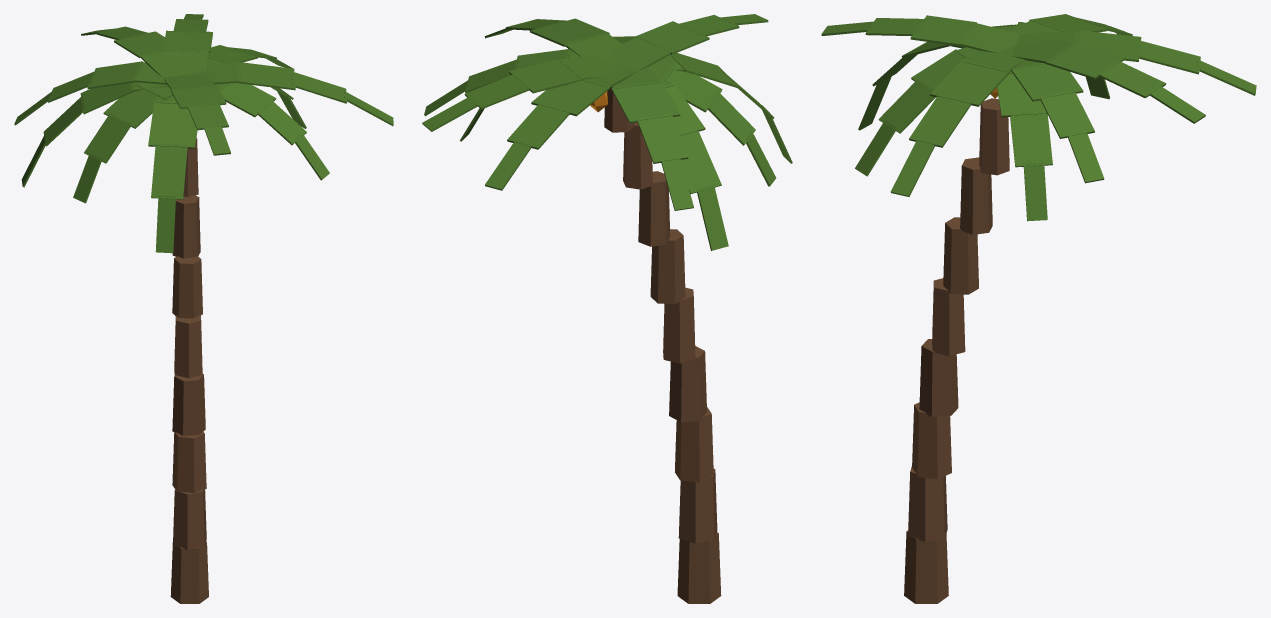
The model's file is palm_b.glb.
3 renders of one model, left to right at view 1: azimuth 30°, elevation 25°; view 2: azimuth 150°, elevation 25°; view 3: azimuth 270°, elevation 25°, orthographic. The views are drawn at different scales.
Parts seen in each view (by area): view 1: Palm; view 2: Palm; view 3: Palm.
Part boxes in pixels (x1,y1,x2,y2): Palm: (14,14,393,603); Palm: (422,14,792,603); Palm: (821,14,1256,603).
Size of the model in its own units: 7.27 by 11.68 by 8.01.
